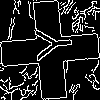Y: (25, 25, 73, 63)
